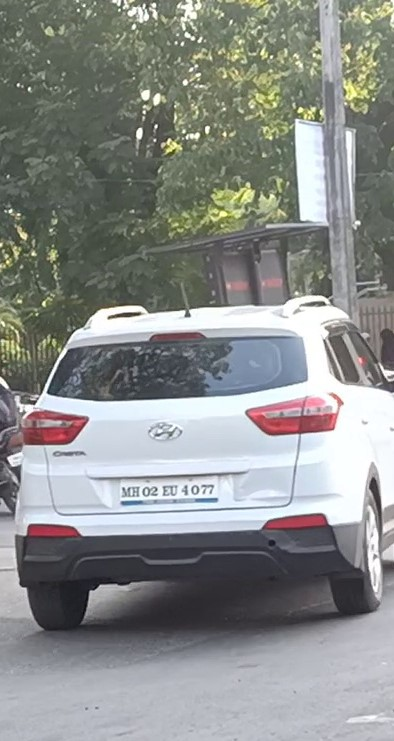MH02EU4077: (119, 475, 219, 501)
